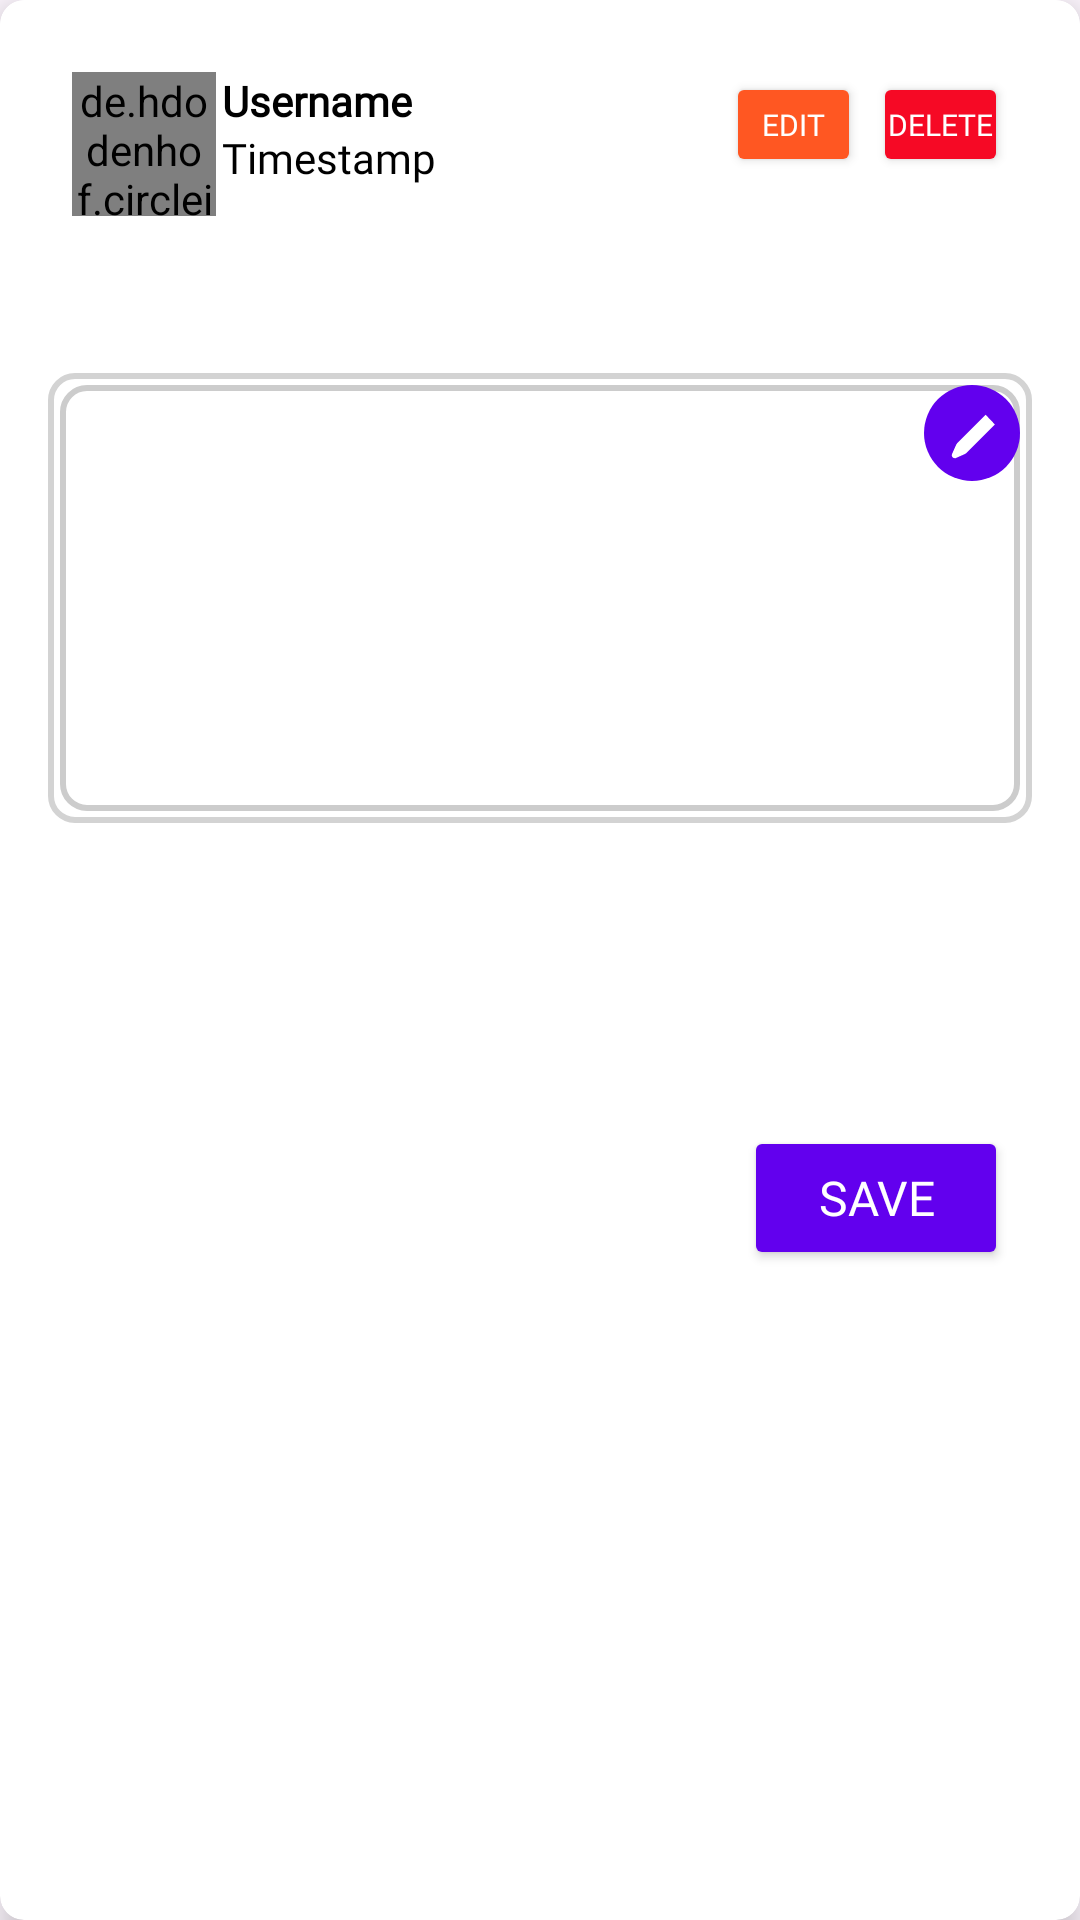

Where to tap for icons on this 1080 x 1920 app screen, as point (x, y):
Edit Image: point (972, 433)
